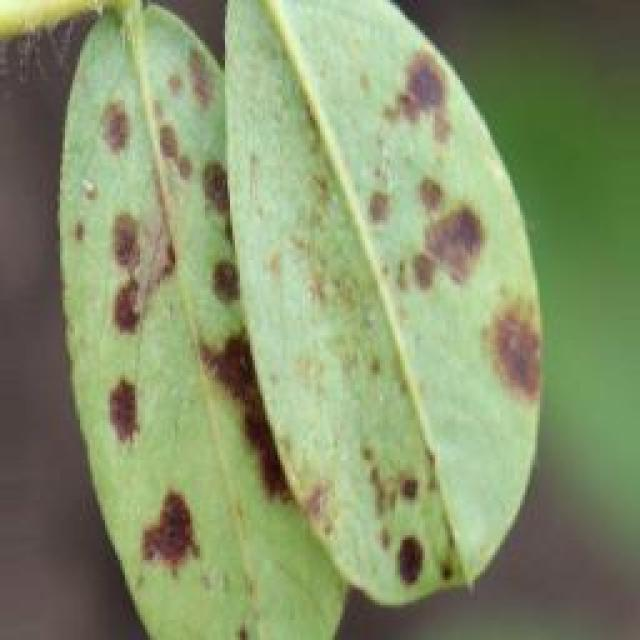Whitefly: (64, 24, 546, 640)
